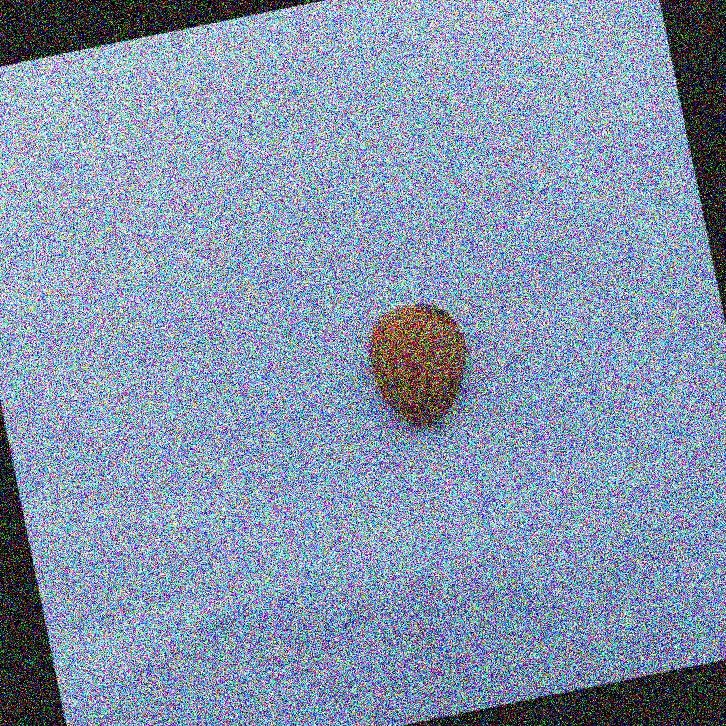grade1: (348, 287, 489, 445)
